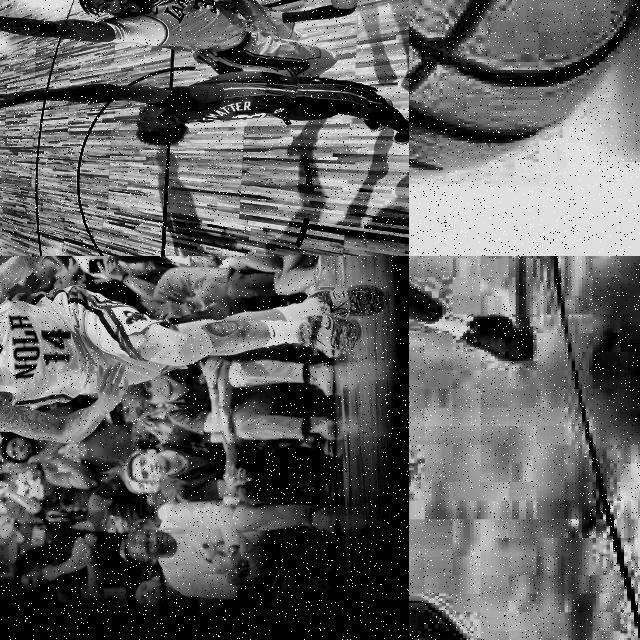Basketball: (409, 0, 639, 174)
